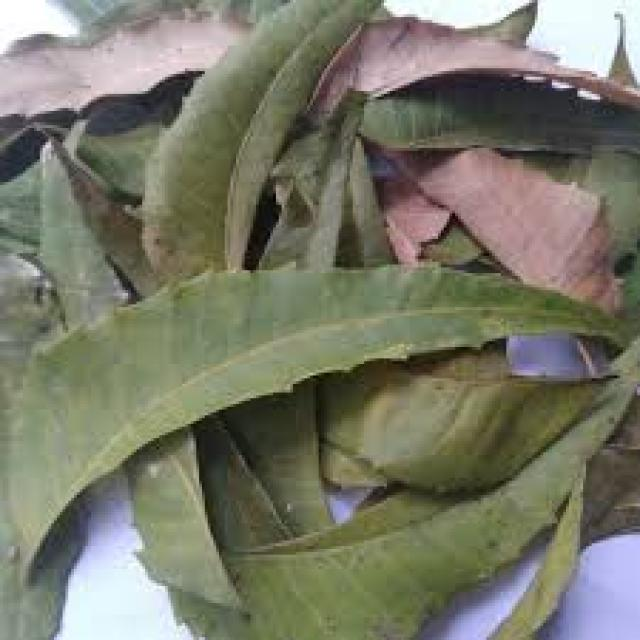Neem-Tree: (53, 51, 640, 493), (142, 20, 341, 276)
